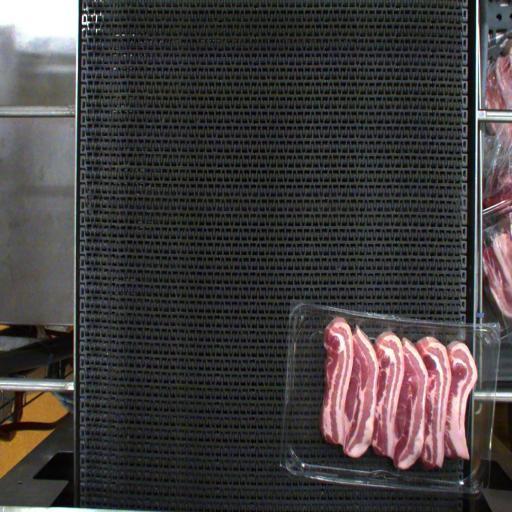packaging-error: (353, 316, 365, 330)
